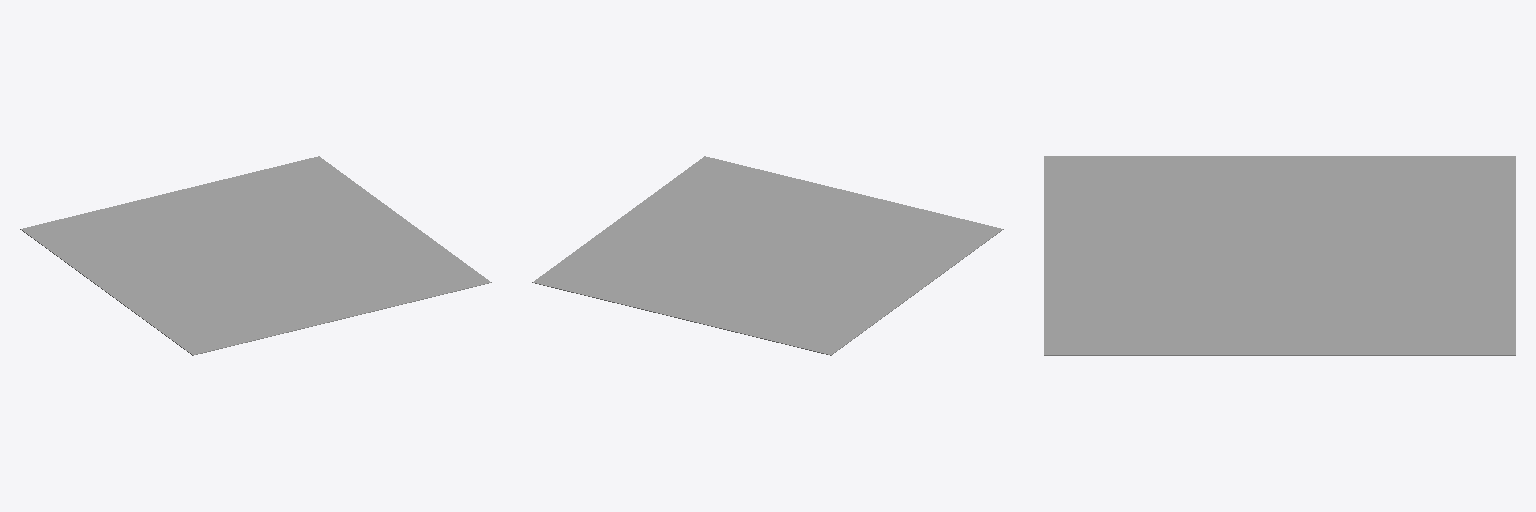
robot.urdf — plane:
<?xml version="1.0"?>
<robot name="plane">
  <link name="plane_link">
    <visual>
      <origin xyz="0 0 0" rpy="0 0 0"/>
      <geometry>
        <box size="50 50 0.1"/>
      </geometry>
      <material name="gray">
        <color rgba="0.7 0.7 0.7 1.0"/>
      </material>
    </visual>
    <collision>
      <origin xyz="0 0 0" rpy="0 0 0"/>
      <geometry>
        <box size="50 50 0.1"/>
      </geometry>
    </collision>
    <inertial>
      <origin xyz="0 0 0" rpy="0 0 0"/>
      <mass value="1000.0"/>
      <inertia ixx="208333.33" ixy="0.0" ixz="0.0" 
               iyy="208333.33" iyz="0.0" 
               izz="416666.67"/>
    </inertial>
  </link>
</robot>

--- What the picture shows (computed from the rendered views, not written in the file) ---
Views: 3 orthographic renders of the robot side by side, from view 1: azimuth 30°, elevation 25°; view 2: azimuth 150°, elevation 25°; view 3: azimuth 270°, elevation 25°.
Robot: plane — 1 links, 0 joints (none); root link plane_link; default pose: every joint at zero.
Links seen in each view (by area): view 1: plane_link; view 2: plane_link; view 3: plane_link.
Boxes of the visible links, x1,y1,x2,y2 form: plane_link: (20, 156, 491, 355); plane_link: (532, 156, 1003, 355); plane_link: (1044, 156, 1515, 355).
Bounding box of the posed robot: 50 × 50 × 0.1 m (x, y, z).
Geometry: primitives only (box / cylinder / sphere), no mesh files.
